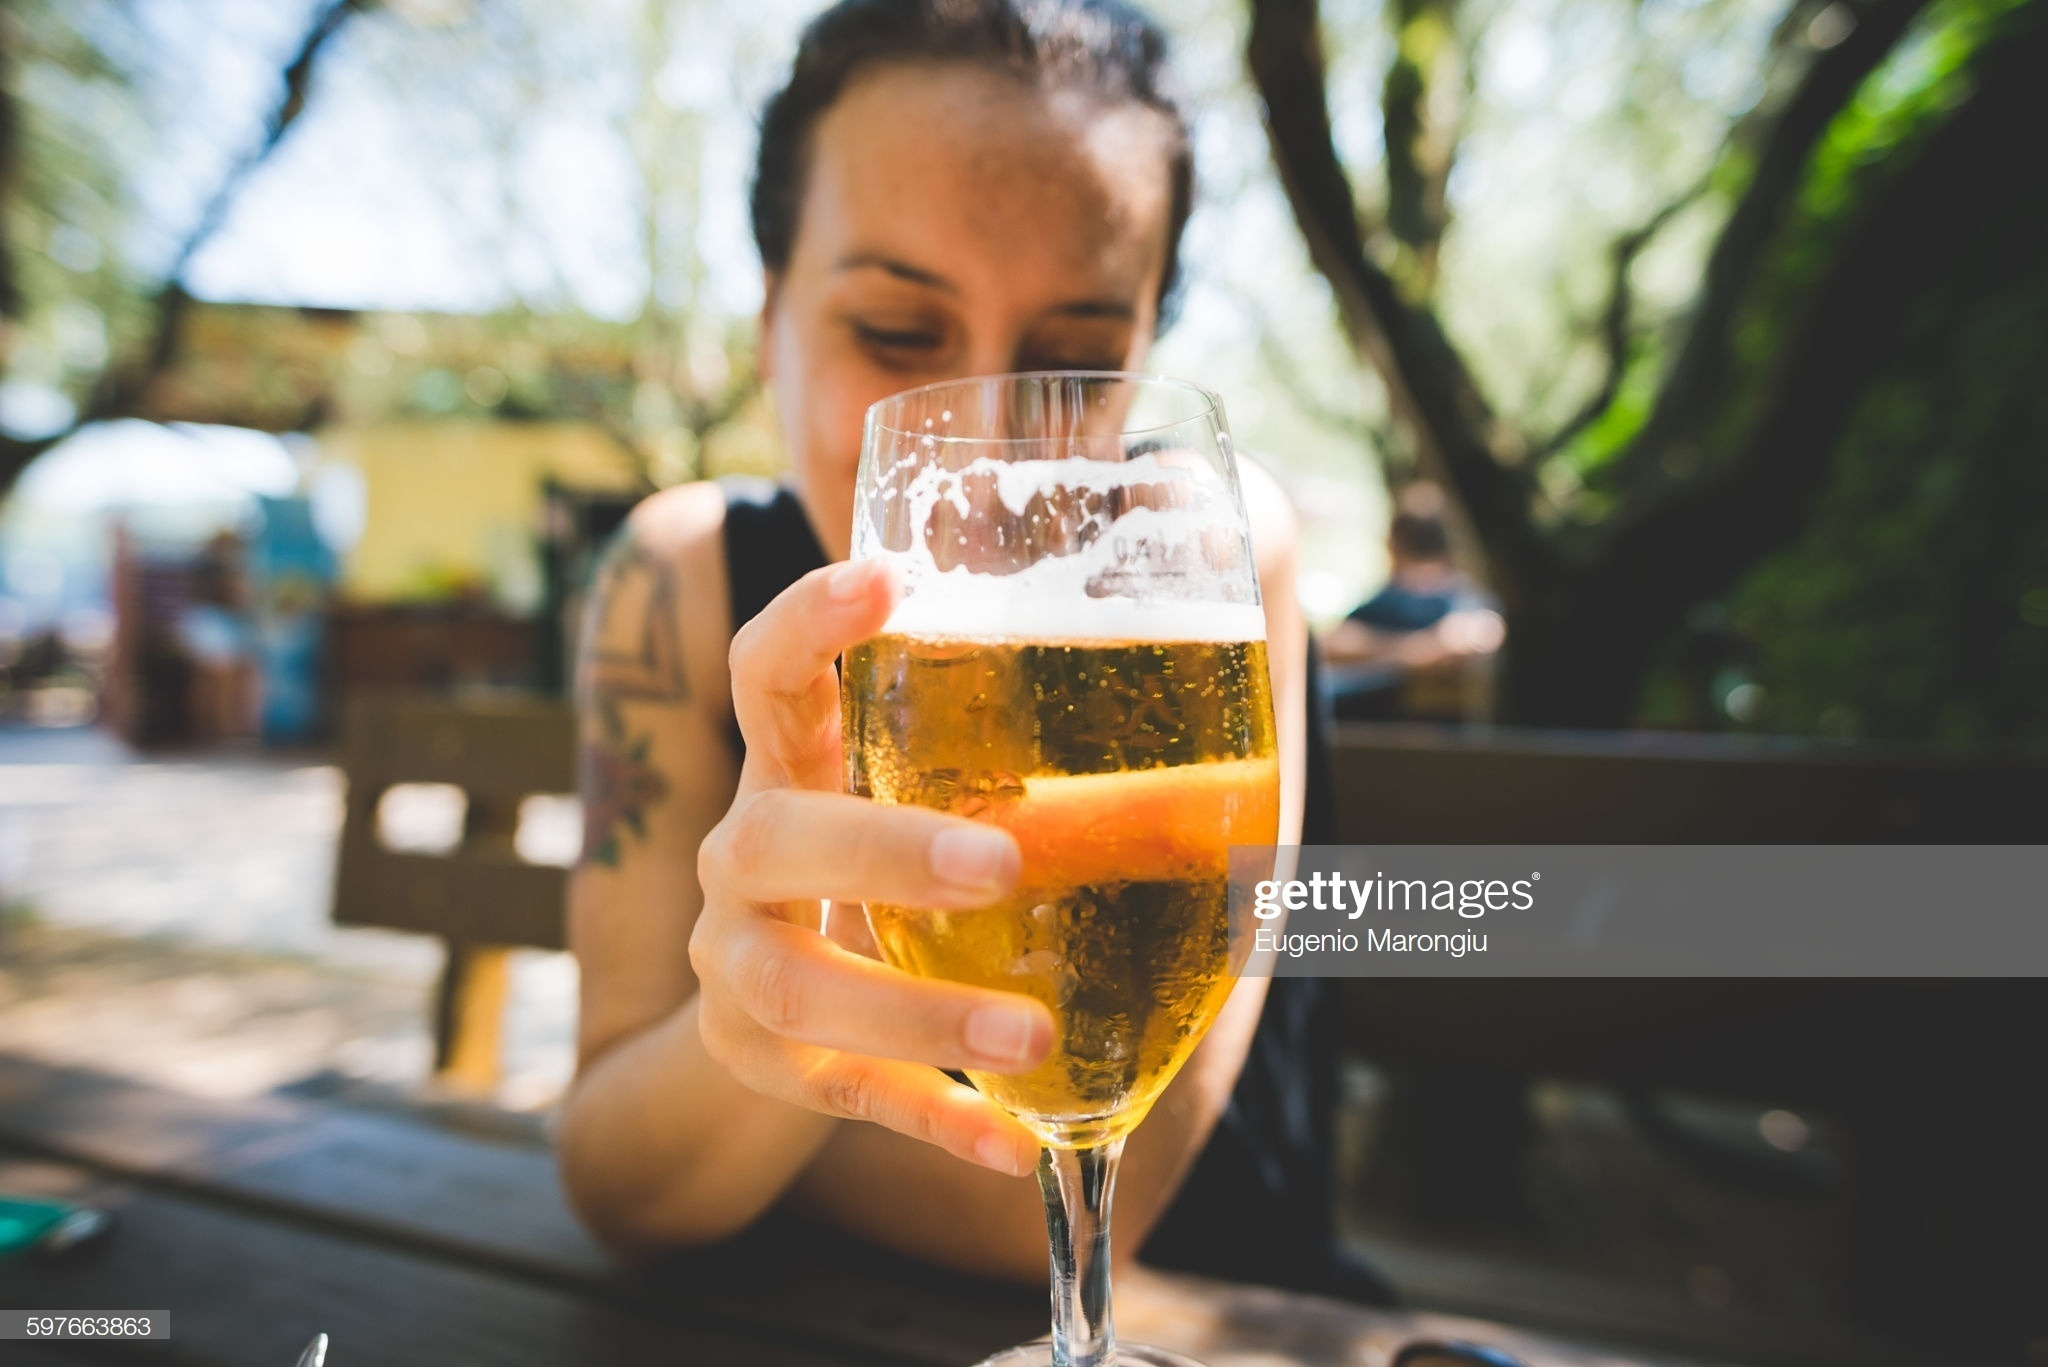whiskey: (831, 384, 1273, 1185)
